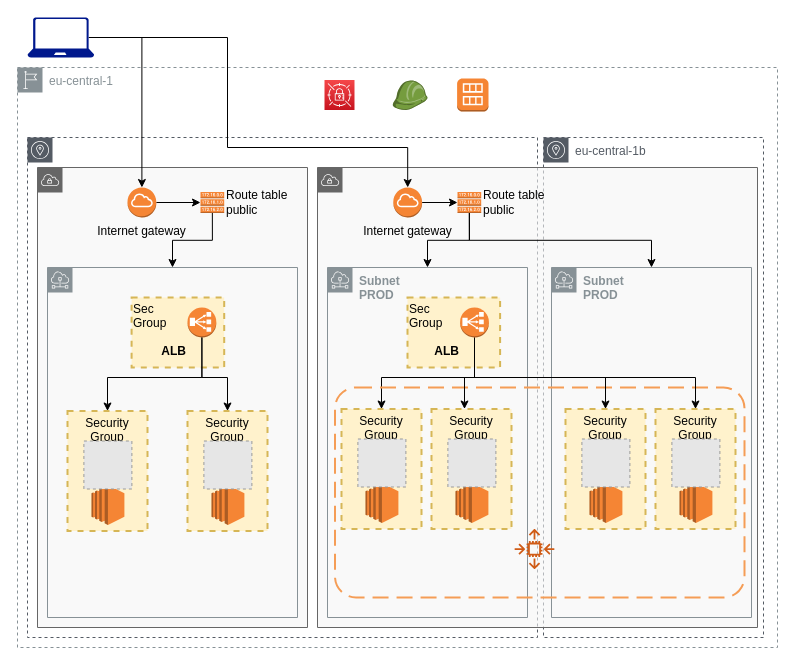
Some shapes in this 795 by 665 pixel diagram are drawn without their labels. Grey dashed boxes stand in for pictures. Each missing label, with the box of its shape:
AMI: (456, 78, 488, 112)
ASG: (514, 528, 554, 568)
db secrets: (324, 79, 354, 110)
eu-central-1a: (26, 136, 538, 638)
IAM role: (391, 80, 428, 110)
Subnet DEV: (46, 266, 298, 618)
VPC DEV: (36, 166, 308, 628)
VPC PROD: (316, 166, 758, 628)
